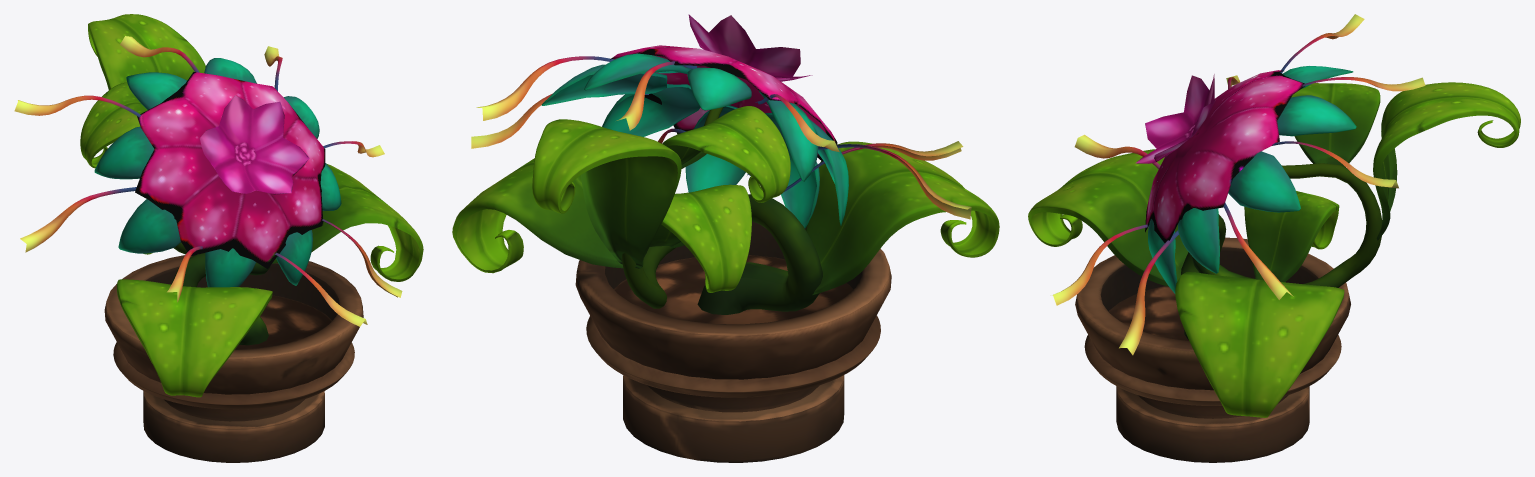
File: stylized-flower-in-a-vase-9aedd7.glb
3 views of the same model, side by side, from view 1: azimuth 30°, elevation 25°; view 2: azimuth 150°, elevation 25°; view 3: azimuth 270°, elevation 25° (orthographic). The views are drawn at different scales.
Parts seen in each view (by area): view 1: PropMesh; view 2: PropMesh; view 3: PropMesh.
Part boxes in pixels (bbox=[...]): PropMesh: bbox=[14, 14, 423, 462]; PropMesh: bbox=[452, 14, 999, 462]; PropMesh: bbox=[1028, 14, 1520, 462].
Bounding box in the file's own units: 0.7623 × 0.6 × 0.7666.
Materials: 1 (1 with a texture image).
